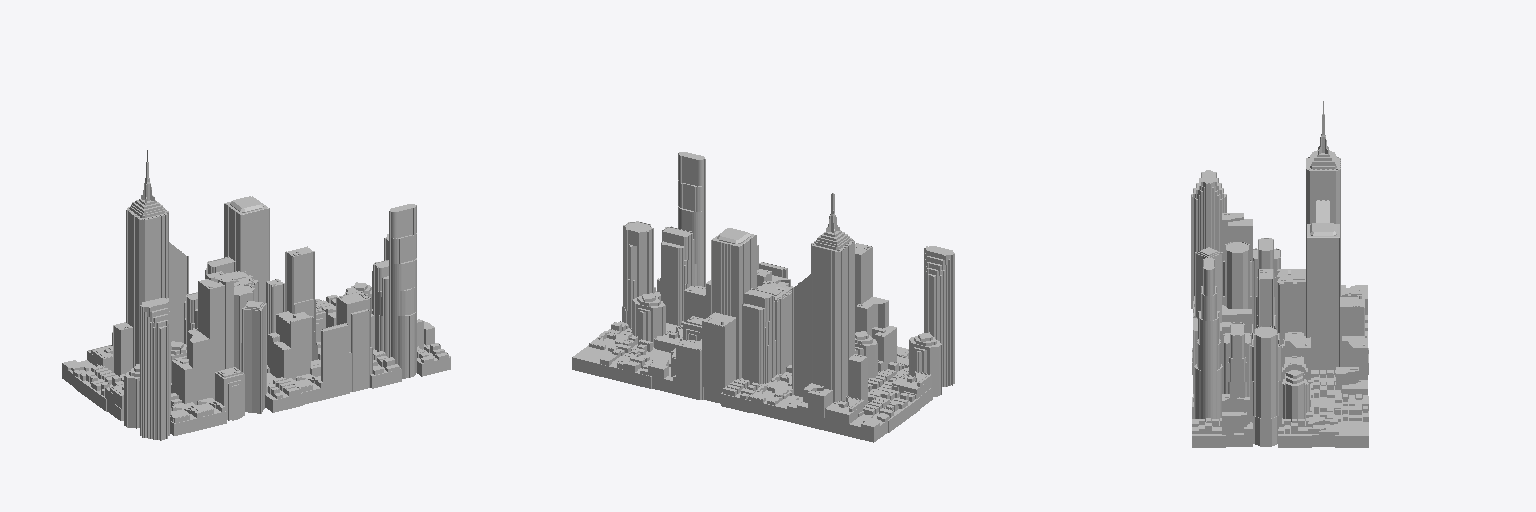
The picture shows the model from 3 angles: view 1: azimuth 30°, elevation 25°; view 2: azimuth 150°, elevation 25°; view 3: azimuth 270°, elevation 25°; orthographic projection.
Parts seen in each view (by area): view 1: Mograph_City_Rig.1; view 2: Mograph_City_Rig.1; view 3: Mograph_City_Rig.1.
Boxes of the visible parts, x1=… form: Mograph_City_Rig.1: x1=62, y1=150, x2=450, y2=440; Mograph_City_Rig.1: x1=572, y1=152, x2=954, y2=442; Mograph_City_Rig.1: x1=1191, y1=101, x2=1368, y2=447.
Size of the model in its own units: 6106 by 4554 by 3115.